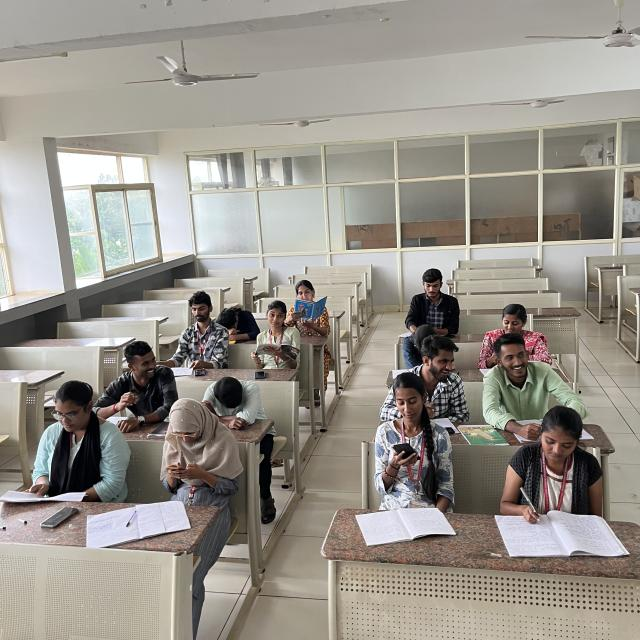Reading: (0, 383, 123, 505), (396, 271, 454, 339), (250, 300, 300, 364), (286, 279, 331, 337)
Sleeping: (204, 374, 262, 432), (215, 304, 262, 344)
Using Phone: (375, 374, 445, 495), (162, 400, 225, 501)
Writing: (498, 411, 598, 539)
